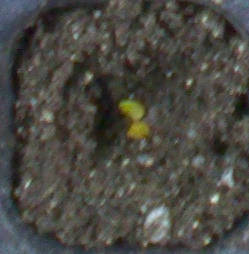pepper seed: (49, 49, 201, 190), (44, 37, 189, 158)
